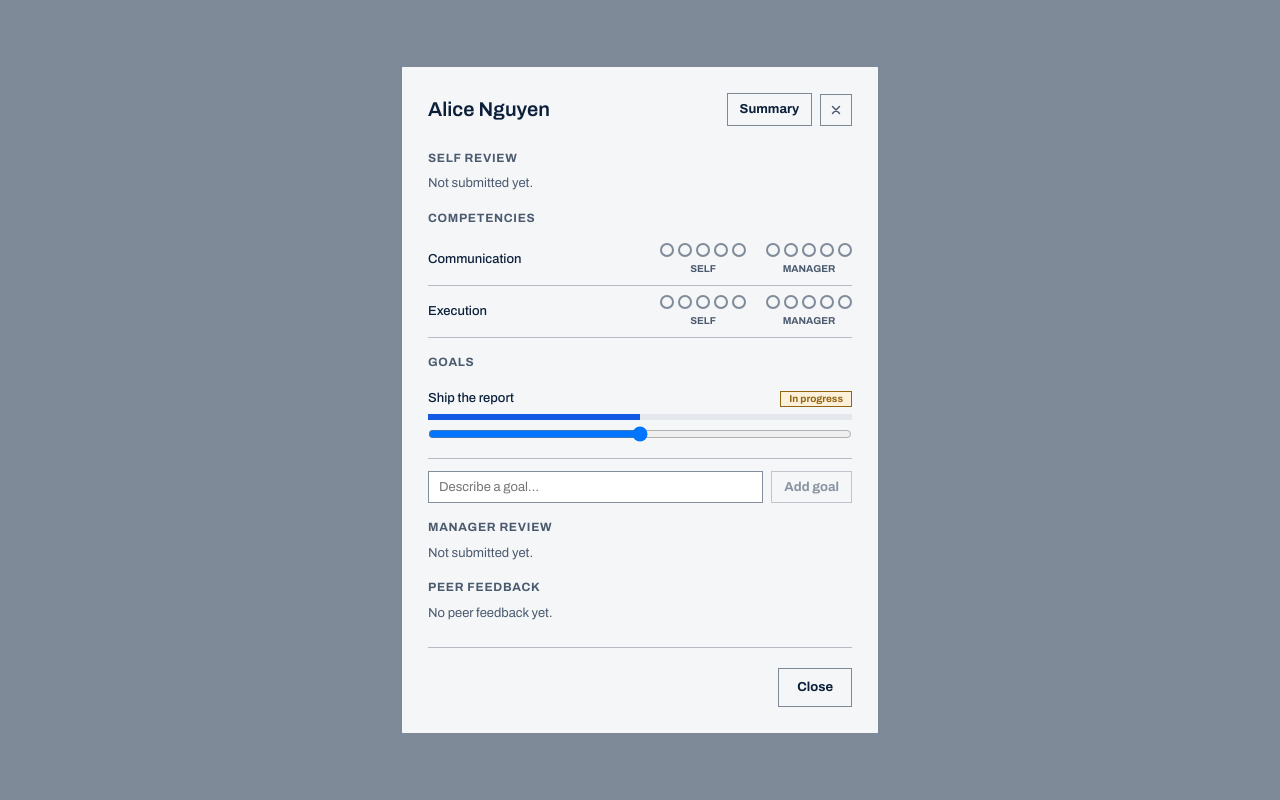
PerformanceReviewDialog › renders goals and adds a new one when canAddGoals
Expected: the text "Ship the report" is shown, [428, 389, 514, 408]
Expected: the text "In progress" is shown, [780, 391, 852, 407]
Type "Mentor a junior" into the field with placeholder "Describe a goal…".
click(596, 487); type("Mentor a junior")  # box [428, 471, 763, 503]
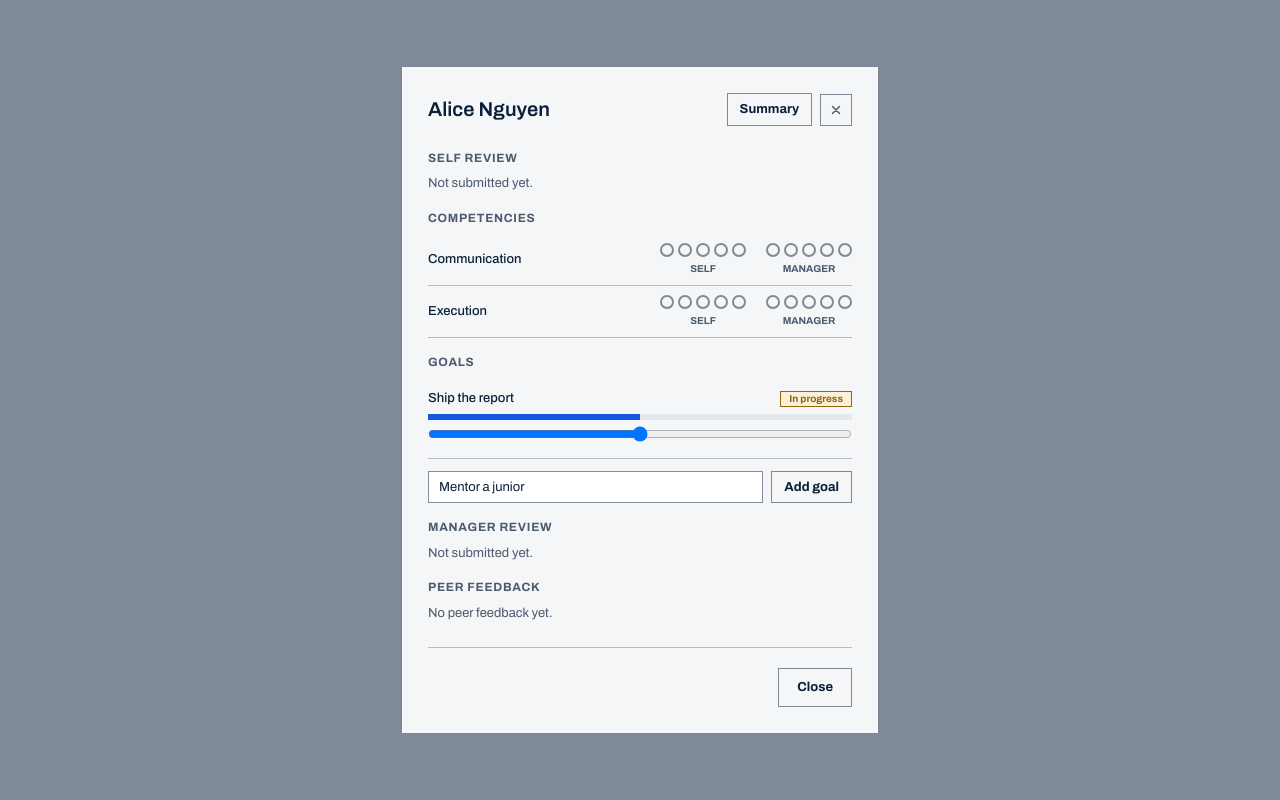
Click the button "Add goal".
click(812, 487)  # box [771, 471, 852, 503]
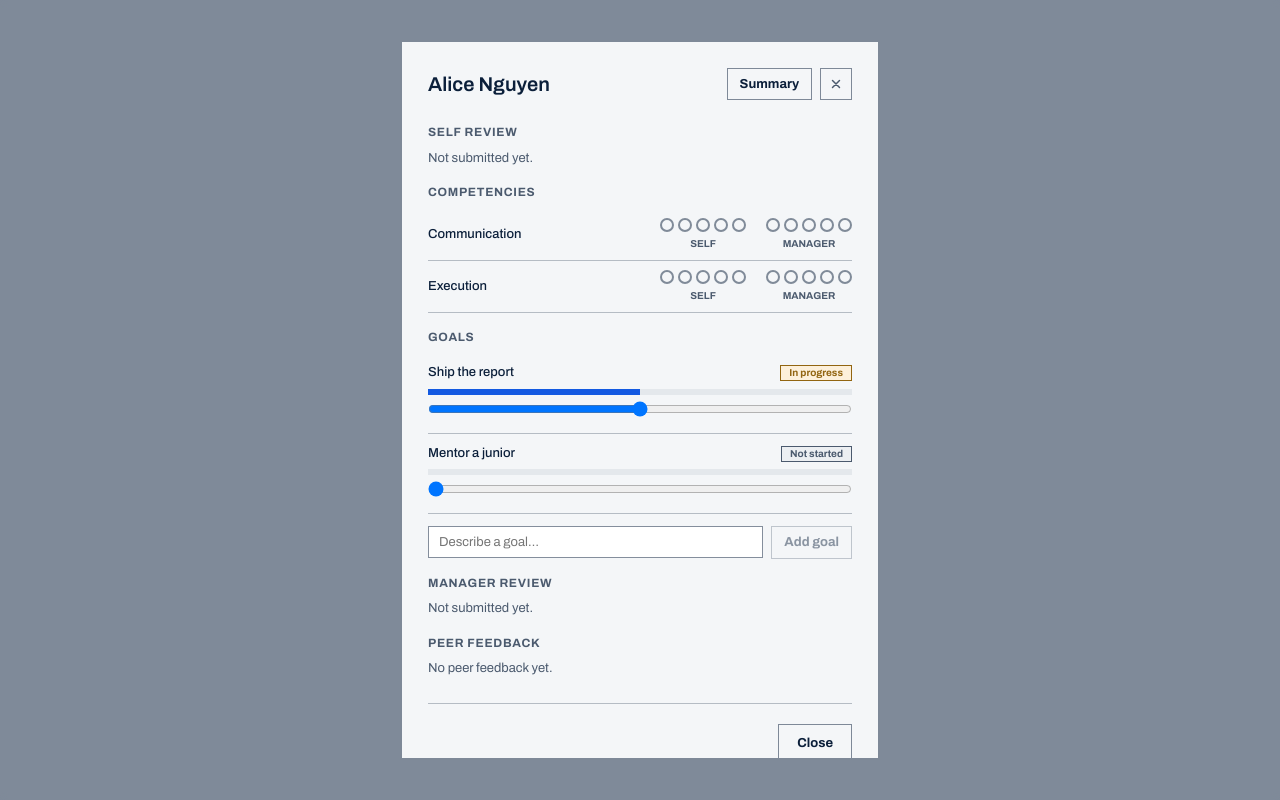
Now the text "Mentor a junior" is shown, box [428, 444, 515, 463]
